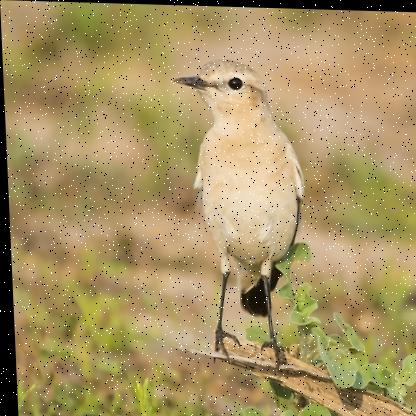Burung: (168, 52, 312, 382)
